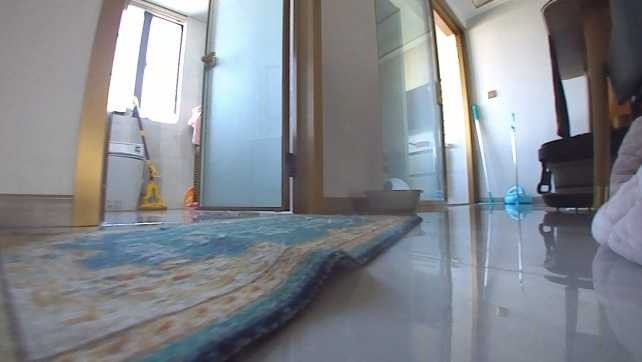blanket: (1, 212, 423, 357)
door_anno: (197, 0, 325, 210)
toilet: (106, 139, 146, 211)
